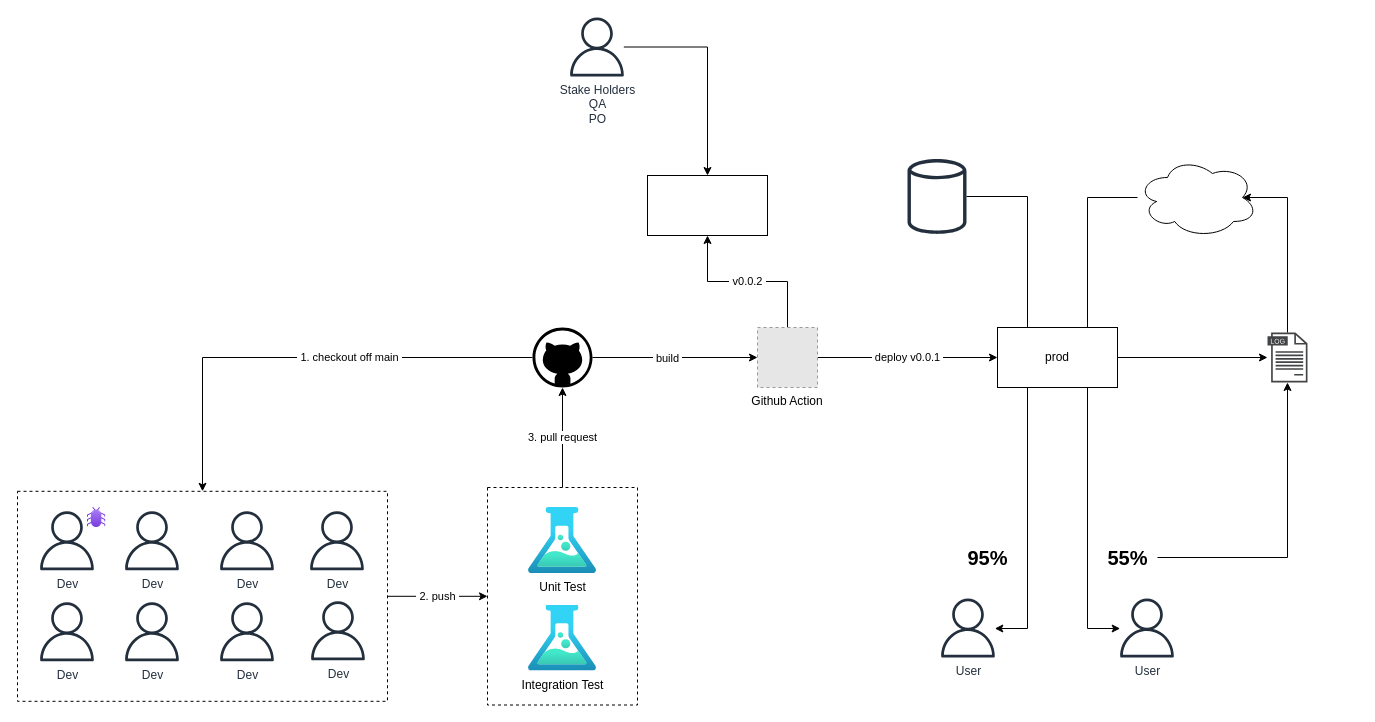
The diagram is 1375 pixels wide and 722 high, and some of its shapes have lost their labels. Grey dashed boxes stand in for pictures. The box of each missing label's shape, as (x1, y1, x2, y2) in pixels:
Deployment flag SaaS: (1136, 156, 1258, 238)
feature flag db: (907, 157, 966, 235)
Logging: (1267, 332, 1307, 382)
main: (532, 327, 592, 387)
pre-prod: (646, 174, 768, 236)
